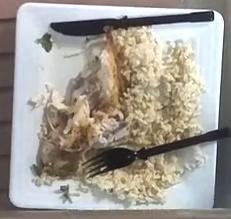chicken: (52, 35, 132, 146)
rice: (106, 27, 201, 149), (86, 151, 194, 203)
